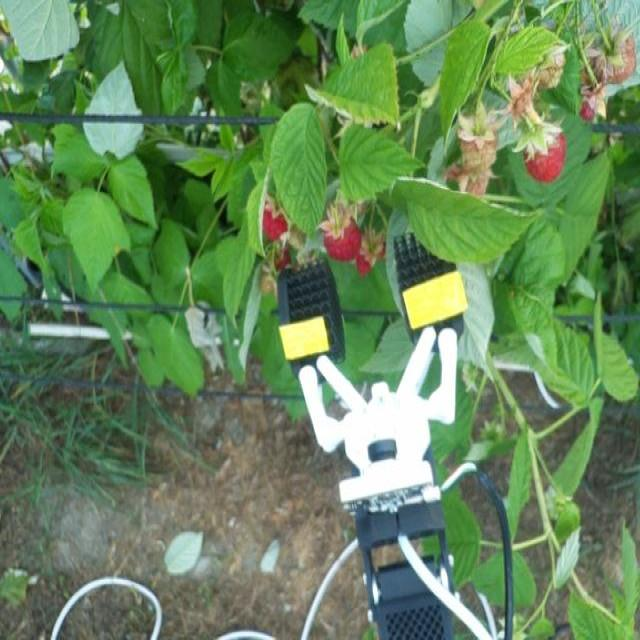Riped berries: (518, 115, 570, 183), (317, 201, 364, 263), (260, 191, 291, 239), (360, 224, 386, 276)
